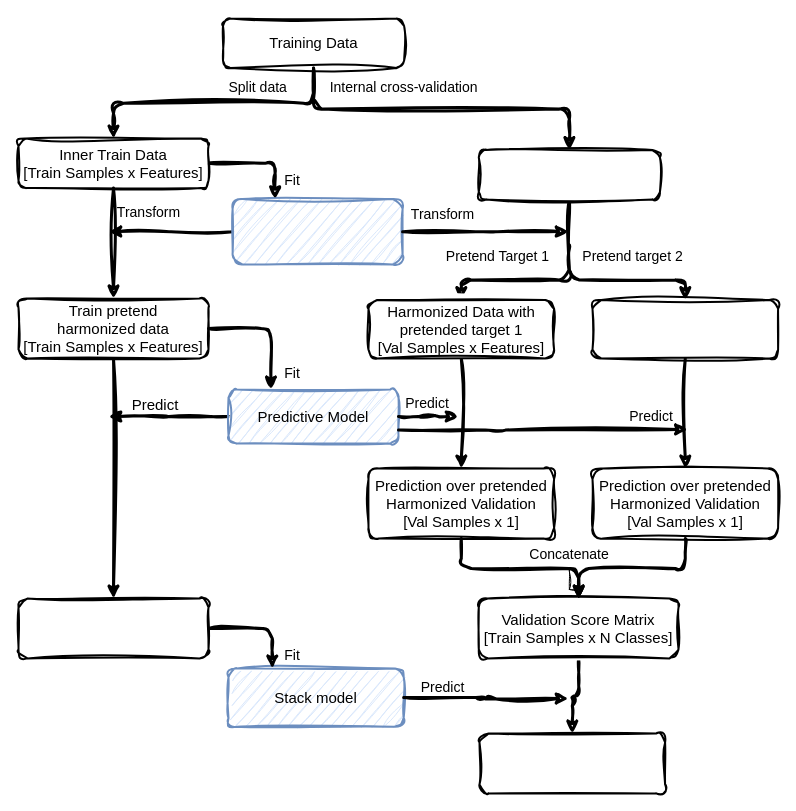
Some shapes in this 796 by 811 pixel diagram are drawn without their labels. The shapes that lost their labels are listed below. From the top down, each one's box as (x1, y1, x2, y2) in pixels, then its label:
(477, 148, 660, 200): Validation Data
(231, 198, 403, 265): neuroHarmonize Model
(591, 298, 779, 359): Harmonized Data with pretended target 2 [Val Samples x Features]
(17, 597, 209, 659): Train Score Matrix [Train Samples x N Classes]
(478, 732, 666, 794): Predicted labels
